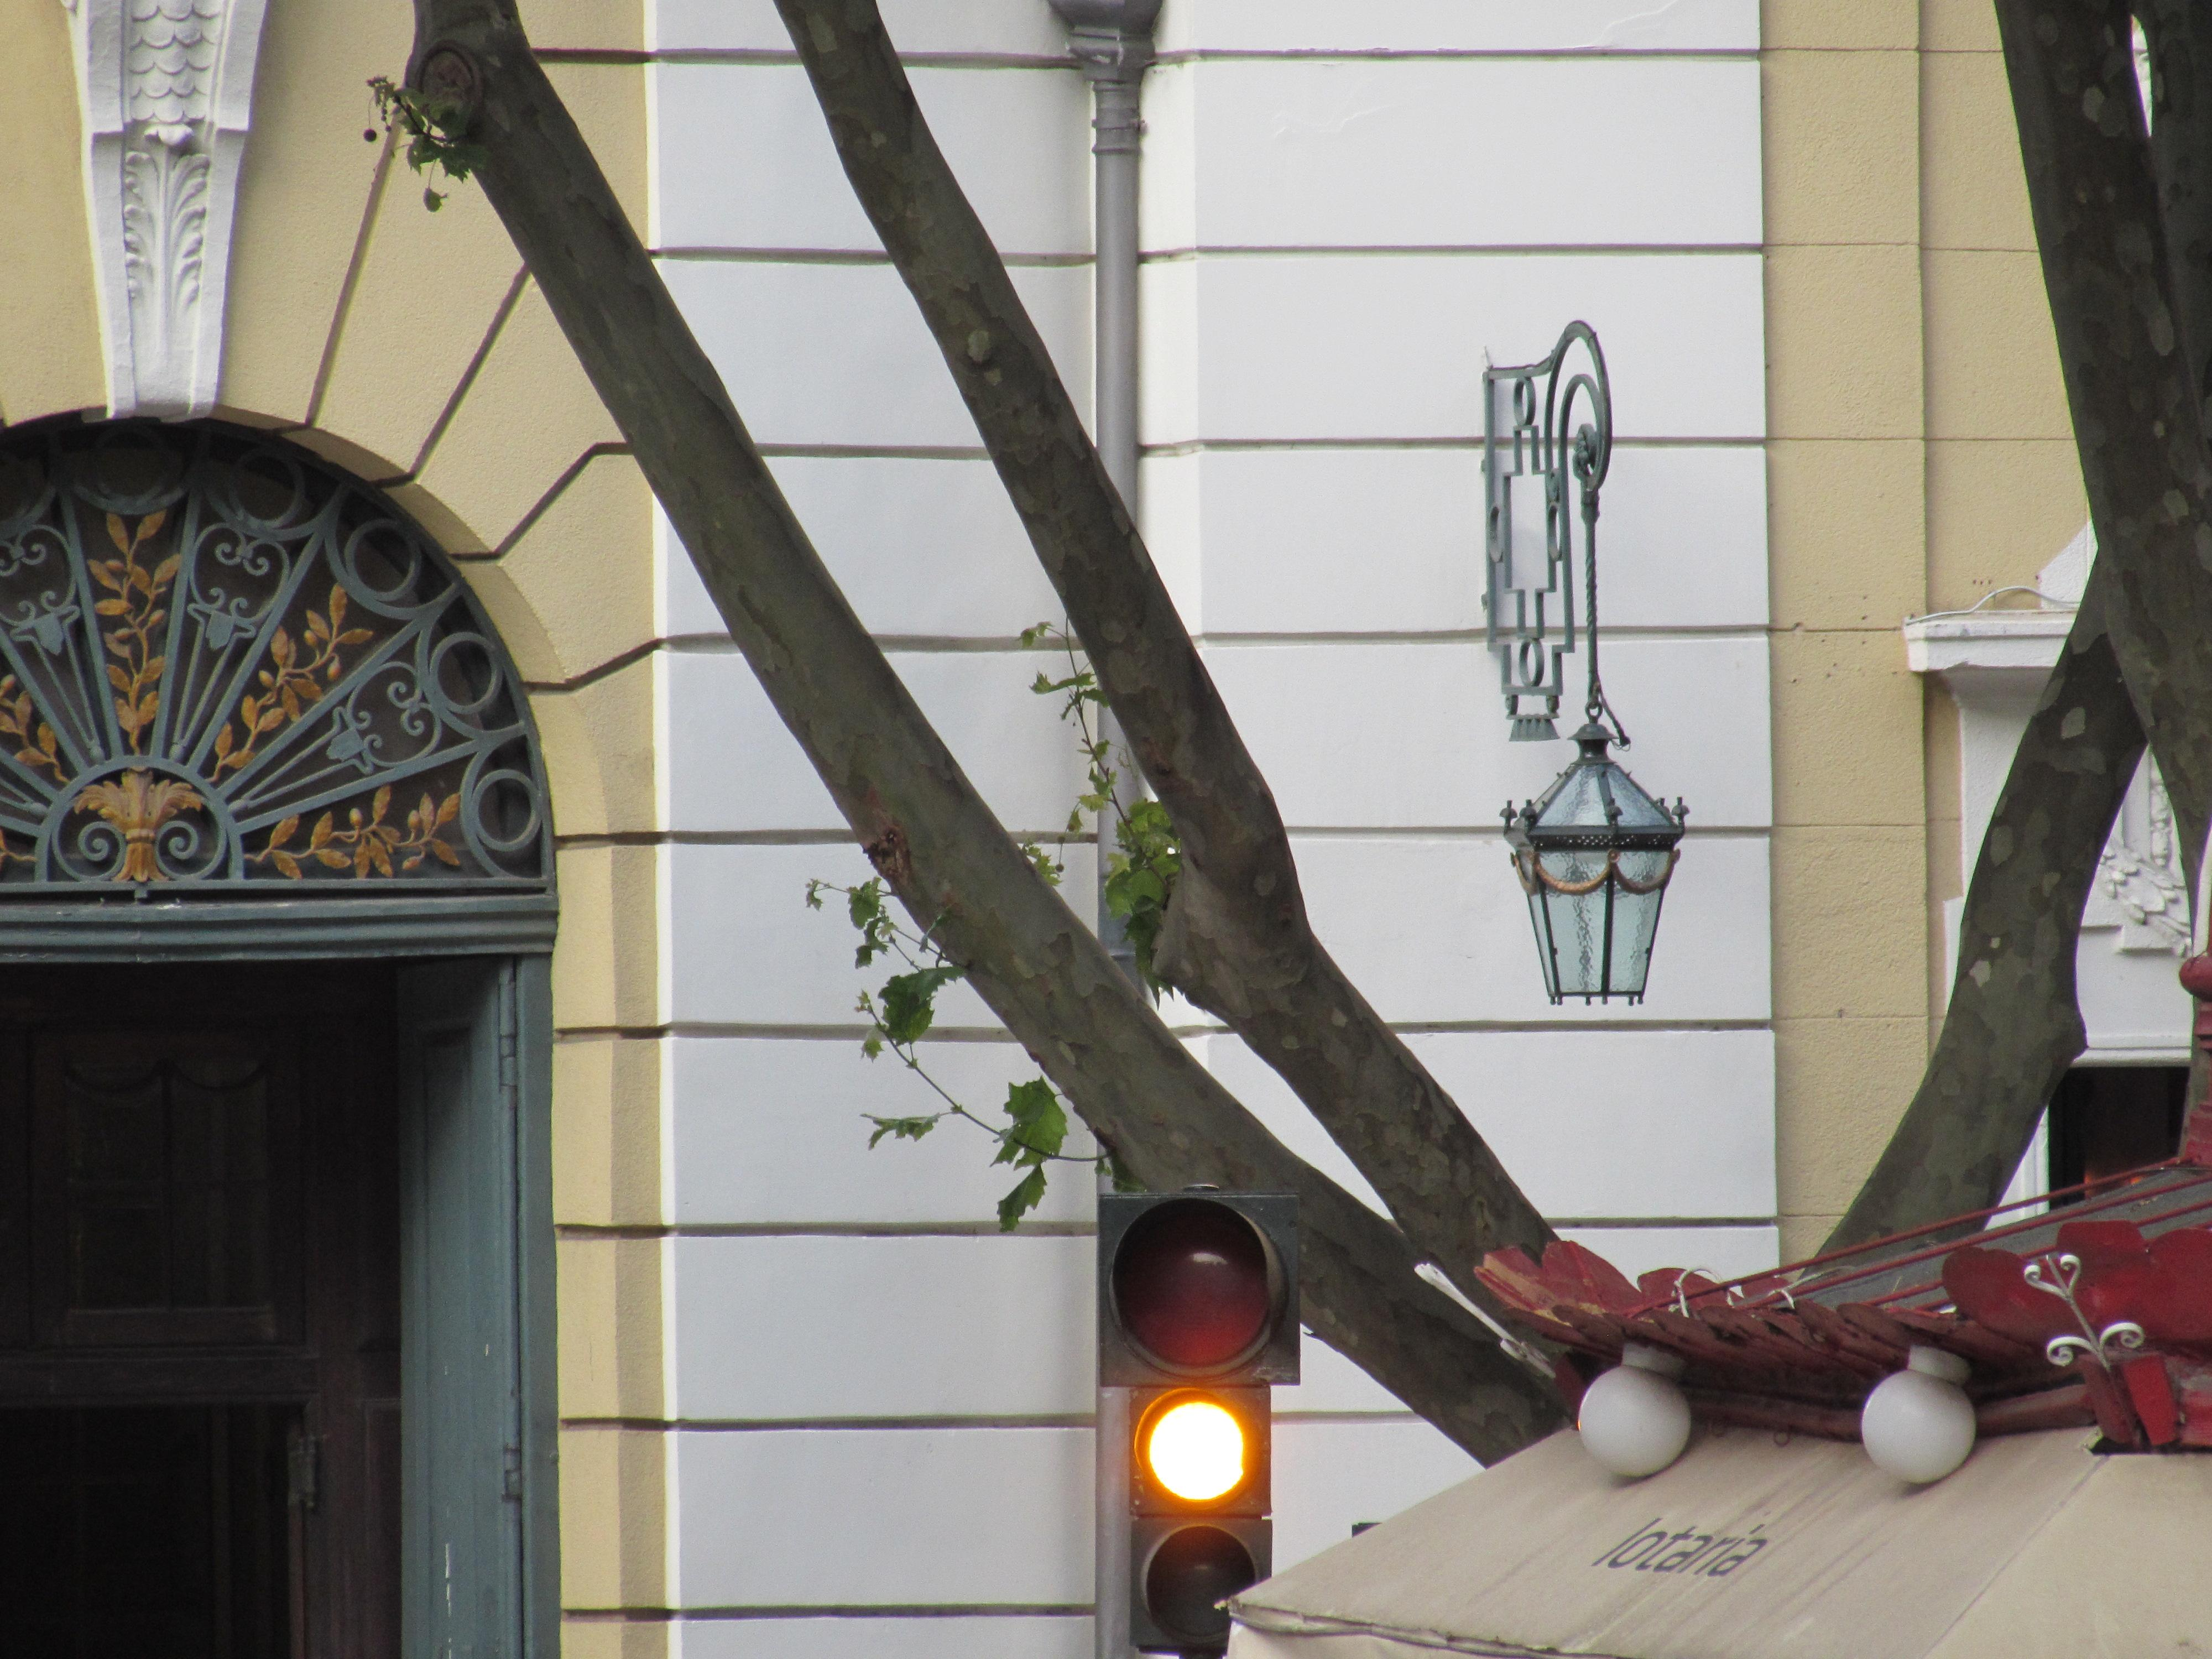yellow_light: (1099, 1194, 1301, 1654)
